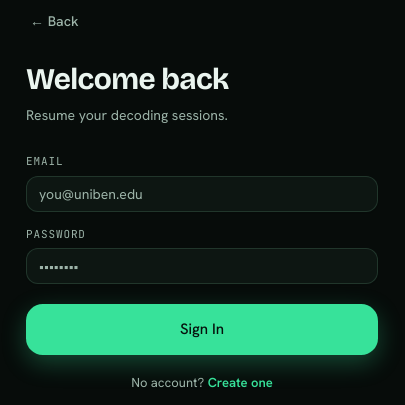
Test: signing in › blocks a second submit while the first is in flight
The image size is (405, 405).
Type "ada@uniben.edu" into the field labelled "EMAIL" at {"x": 202, "y": 194}, box [26, 176, 378, 212]
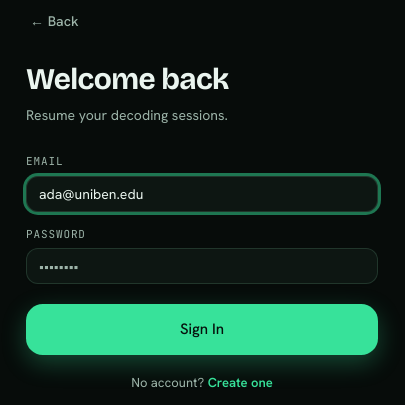
Type "password123" into the password field labelled "PASSWORD" at {"x": 202, "y": 266}, box [26, 248, 378, 284]
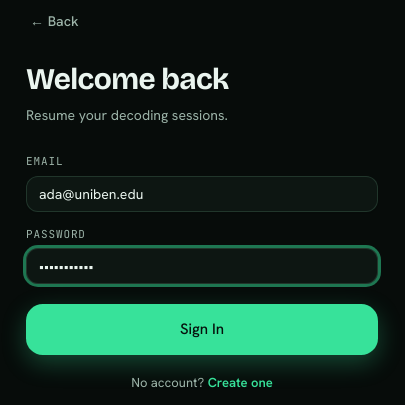
Click the button "Sign In" at {"x": 202, "y": 329}, box [26, 304, 378, 354]
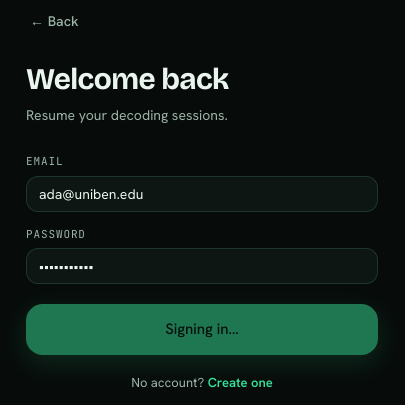
expect the button "Signing in…" is disabled: met, box [26, 304, 378, 354]
